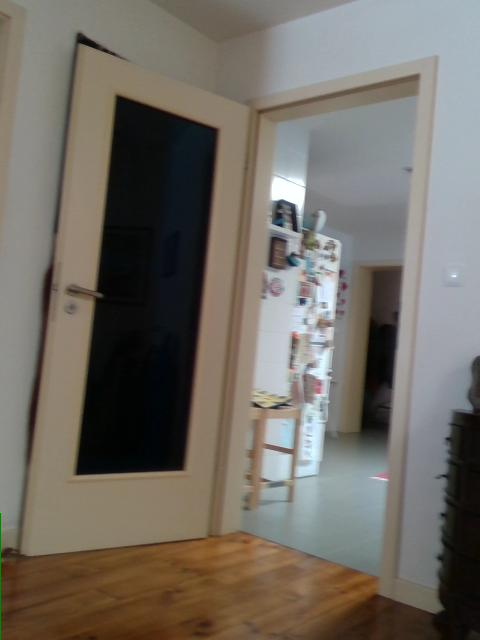door: (18, 44, 253, 557)
